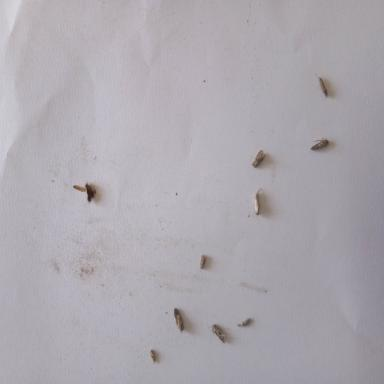pbw: (206, 323, 226, 344), (172, 308, 184, 334), (315, 73, 327, 98), (310, 136, 329, 150), (252, 150, 266, 168), (254, 188, 260, 216), (150, 349, 157, 364), (200, 254, 206, 269)
